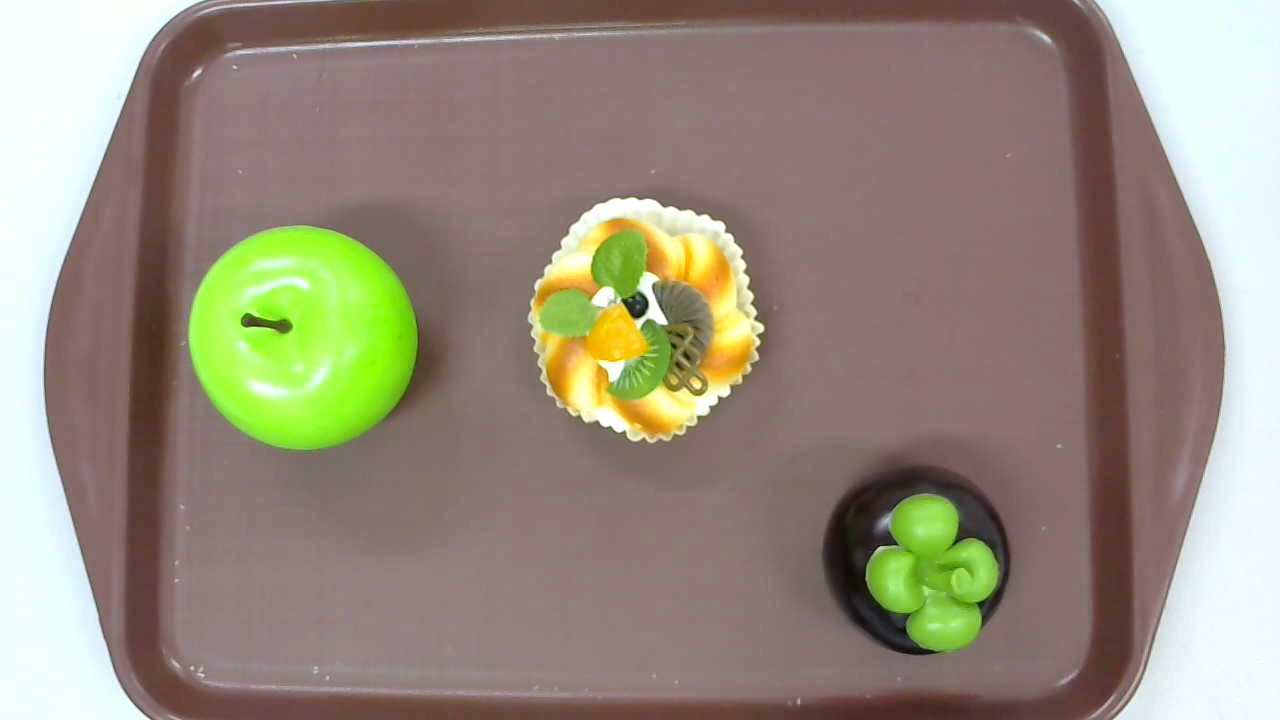fruit tart: (527, 197, 766, 445)
green apple: (186, 225, 418, 453)
mangosteen: (822, 465, 1010, 656)
